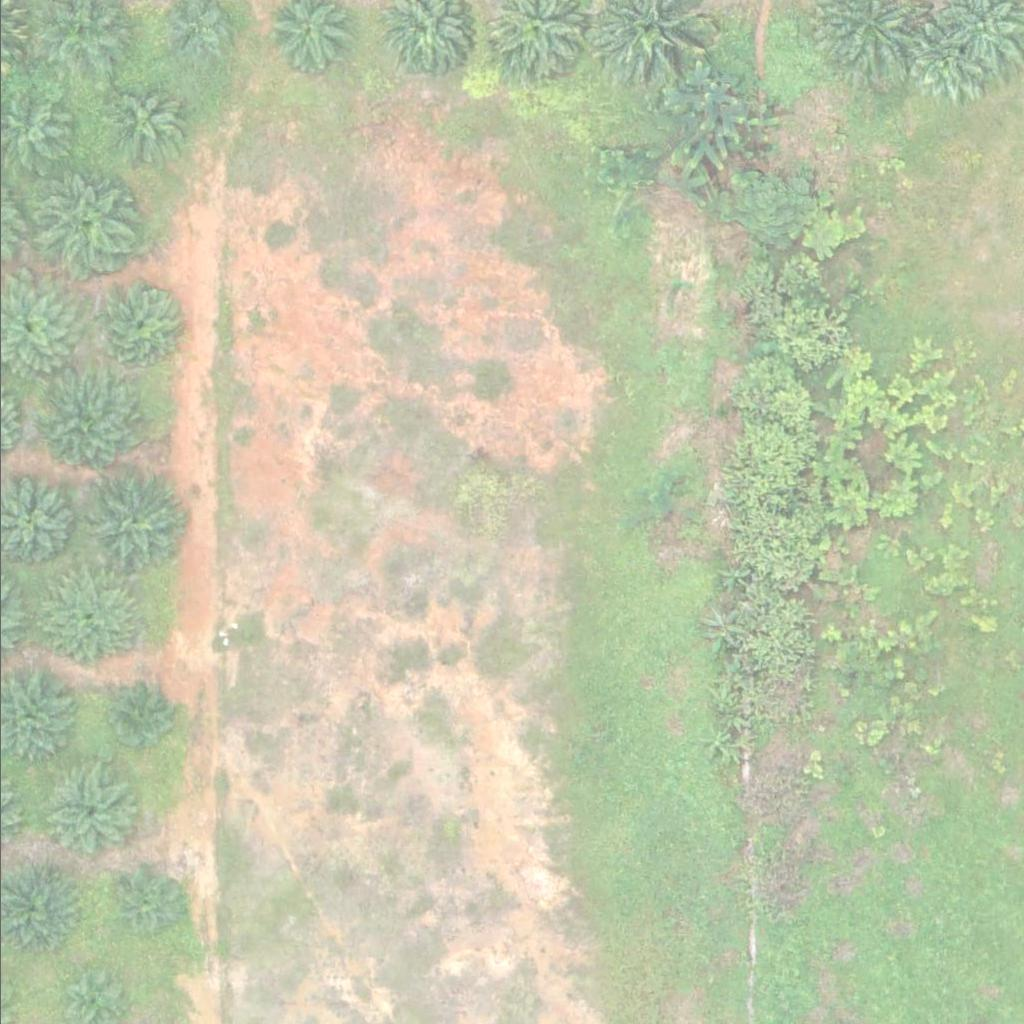Kelapa_Sawit: (73, 468, 186, 580), (30, 376, 131, 476), (33, 570, 134, 670), (37, 763, 138, 863), (31, 172, 131, 272), (98, 79, 186, 167), (898, 14, 986, 101), (95, 280, 183, 367), (112, 872, 175, 935), (110, 689, 173, 752)
